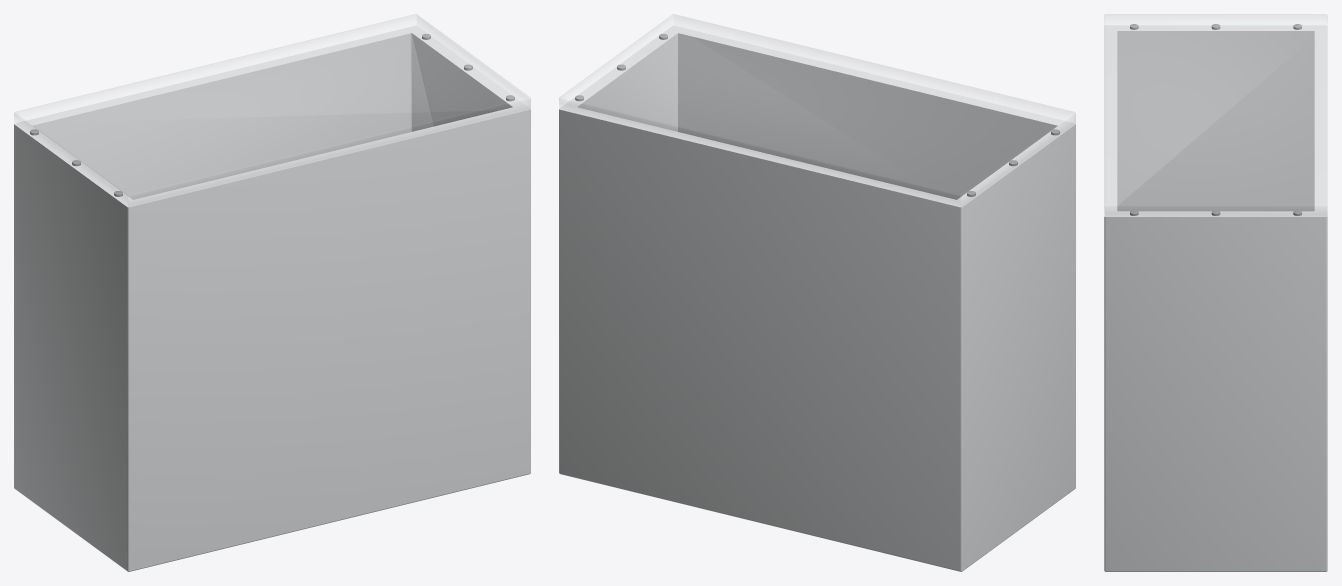
File: acrylic-case-tcg-etb.glb
3 views of the same model, side by side, from view 1: azimuth 30°, elevation 25°; view 2: azimuth 150°, elevation 25°; view 3: azimuth 270°, elevation 25° (orthographic). The views are drawn at different scales.
Parts seen in each view (by area): view 1: Cube, Cube.002; view 2: Cube, Cube.002; view 3: Cube, Cube.002.
Part boxes in pixels (<box>): Cube: <box>14,25,530,571</box>; Cube.002: <box>14,14,530,206</box>; Cube: <box>559,25,1075,571</box>; Cube.002: <box>559,14,1075,206</box>; Cube: <box>1104,25,1327,571</box>; Cube.002: <box>1104,14,1327,216</box>.
Bounding box in the file's own units: 0.207 × 0.185 × 0.102.
4 materials, 3 textured.
